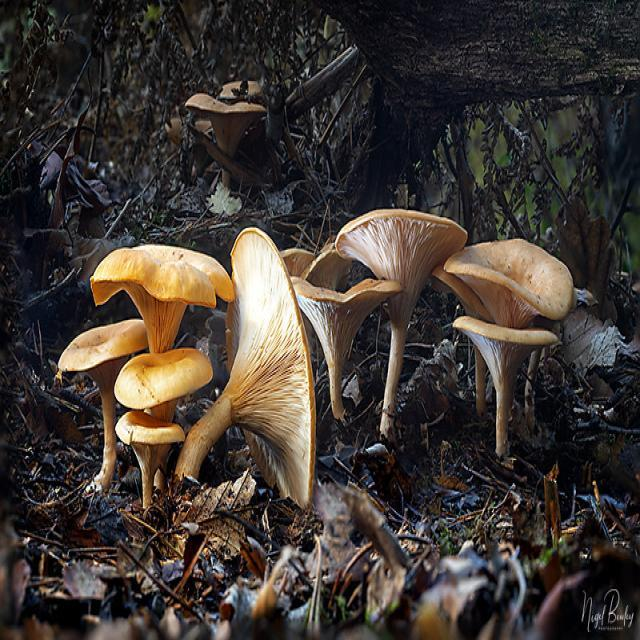Cantharellus cibarius: (282, 208, 572, 461), (63, 245, 234, 499), (181, 230, 315, 524), (173, 79, 266, 185)
